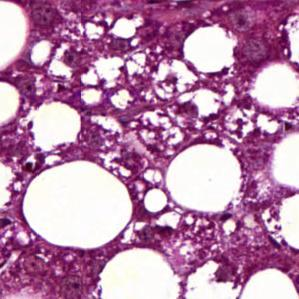steatosis: (21, 161, 134, 250)
